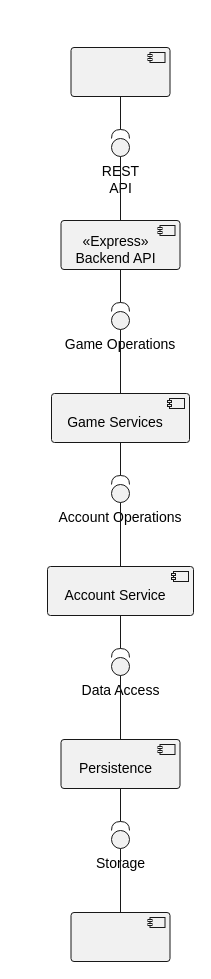
This 211x979 diagram has some shape labels left out. The centre of each missing label's shape, as x and y in pixels:
"«React» Frontend" belongs at point (120, 71).
"«SQLite» Database" belongs at point (120, 937).
